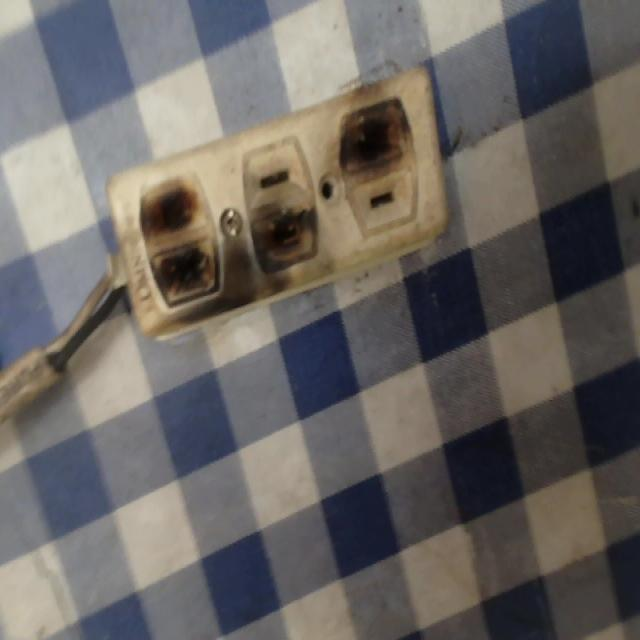-: (133, 164, 222, 308), (323, 91, 415, 177), (244, 211, 322, 280)
